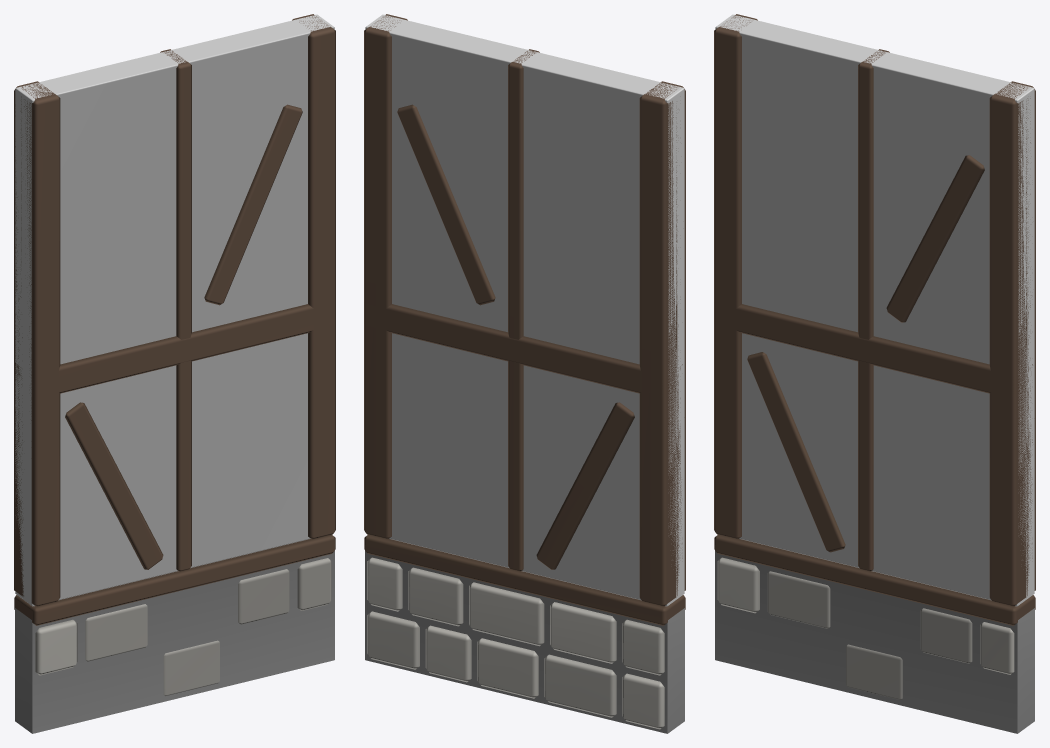
File: timber-wall-a.glb
The picture shows the model from 3 angles, left to right: view 1: azimuth 30°, elevation 25°; view 2: azimuth 150°, elevation 25°; view 3: azimuth 330°, elevation 25°; orthographic projection.
Parts seen in each view (by area): view 1: body; view 2: body; view 3: body.
Boxes of the visible parts, x1,y1,x2,y2 form: body: (14,14,335,733); body: (364,14,685,733); body: (714,14,1035,733).
Size of what is drawn, in the model's own units: 1 by 2 by 0.1321.
